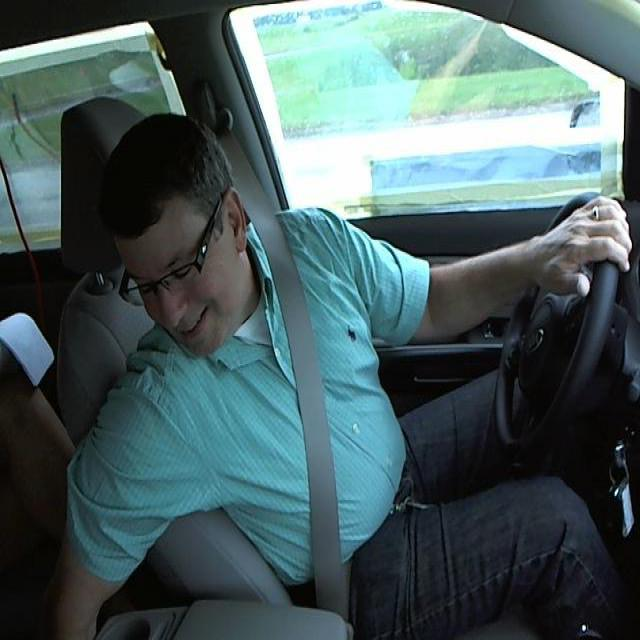seatbelt: (262, 250, 369, 602)
